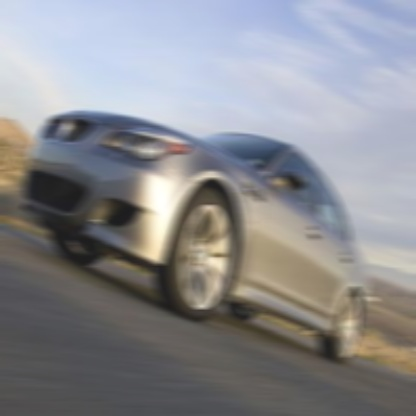Vehicle: (26, 109, 368, 367)
